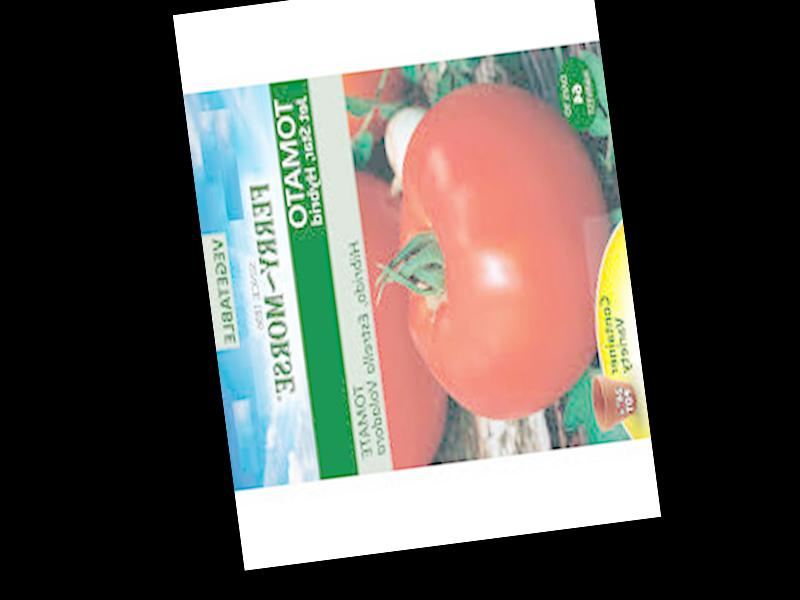Tomato: (379, 69, 631, 427)
